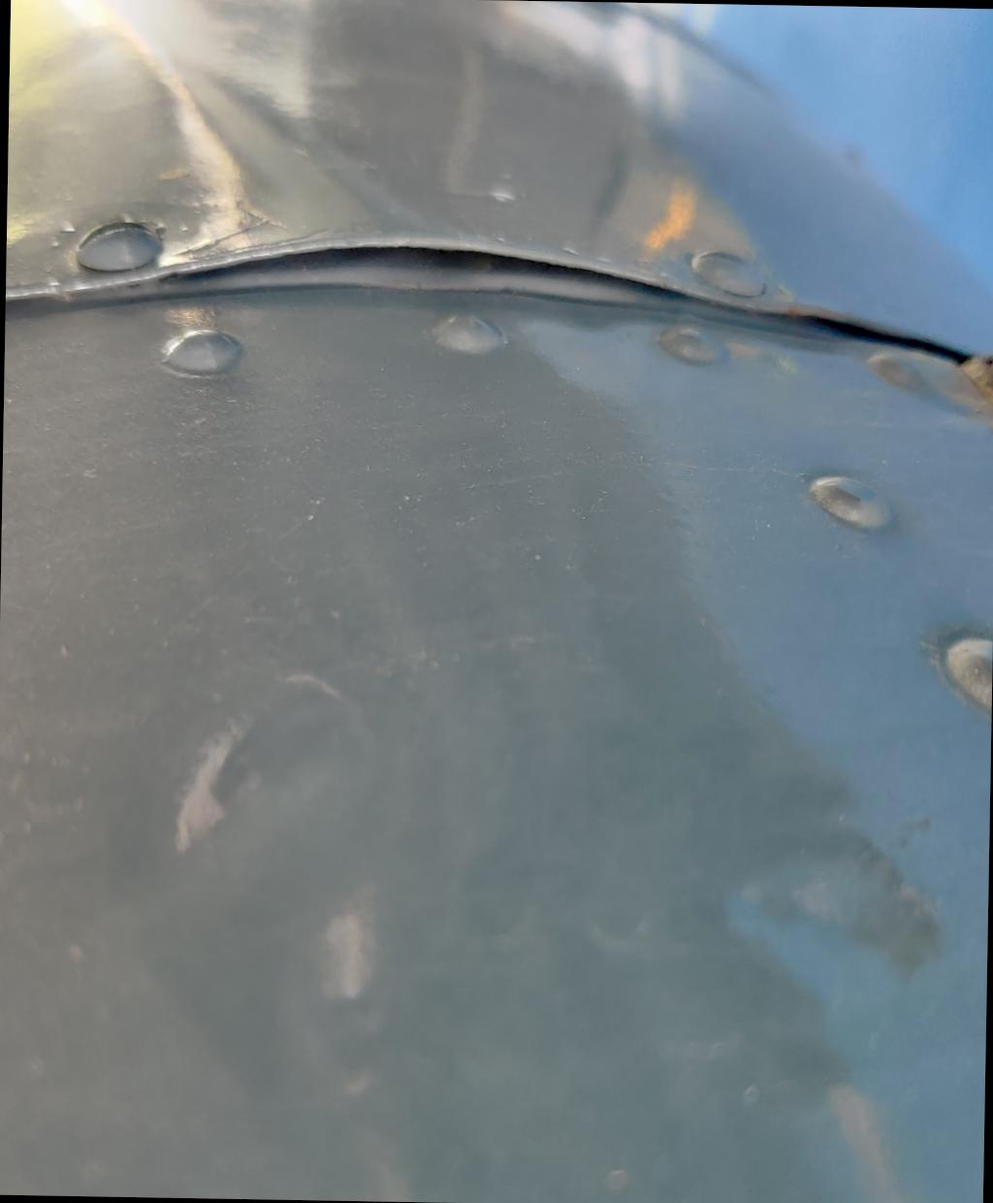dent: (488, 854, 739, 1165), (644, 166, 837, 482)
